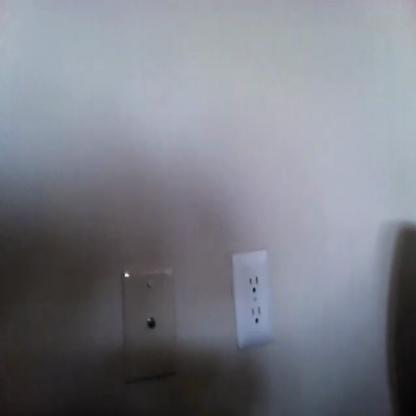OUTLET: (233, 252, 274, 346)
